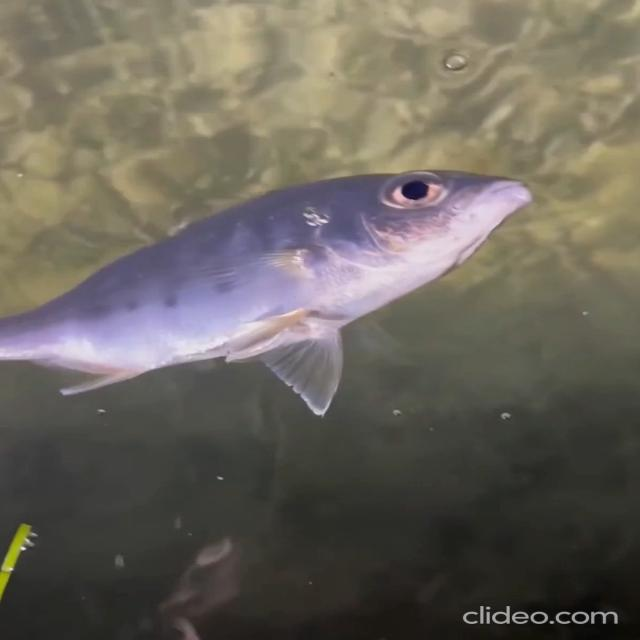fish: (4, 162, 538, 419)
